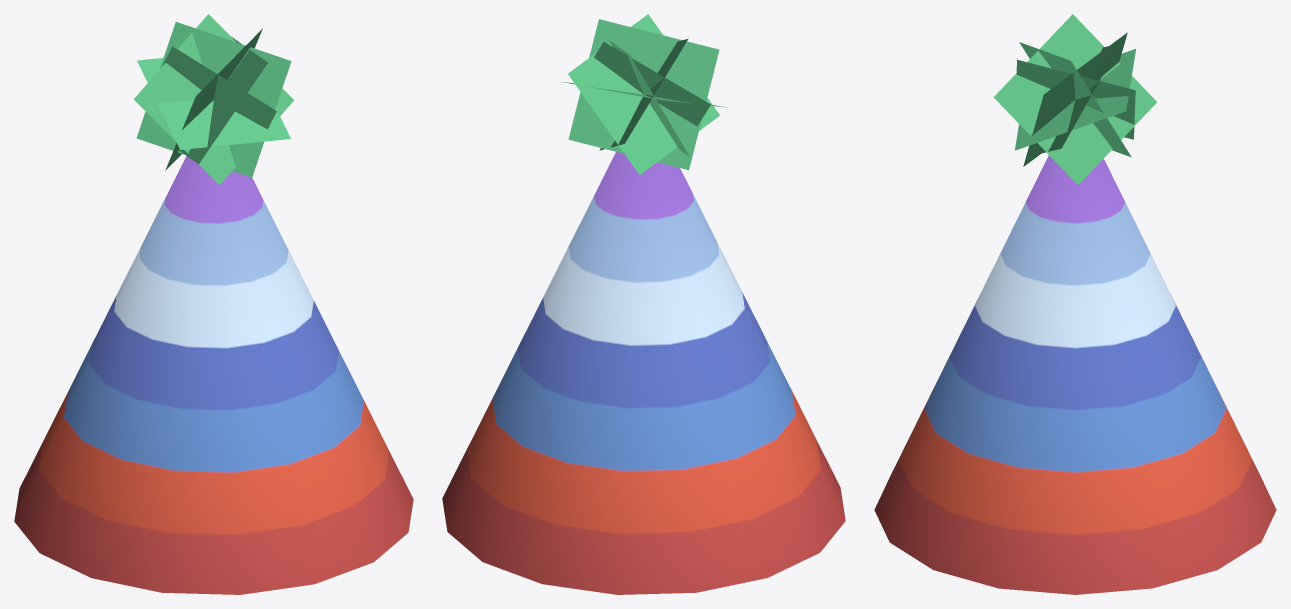
Rendered from BirthdayHat.glb.
The picture shows the model from 3 angles, left to right: view 1: azimuth 30°, elevation 25°; view 2: azimuth 150°, elevation 25°; view 3: azimuth 270°, elevation 25°; orthographic projection.
Parts seen in each view (by area): view 1: Circle.005; view 2: Circle.005; view 3: Circle.005.
Part boxes in pixels (x1,y1,x2,y2): Circle.005: (14, 14, 413, 594); Circle.005: (442, 14, 845, 594); Circle.005: (874, 14, 1276, 594).
Size of the model in its own units: 0.3958 by 0.5158 by 0.3958.
Materials: 1 (1 with a texture image).
